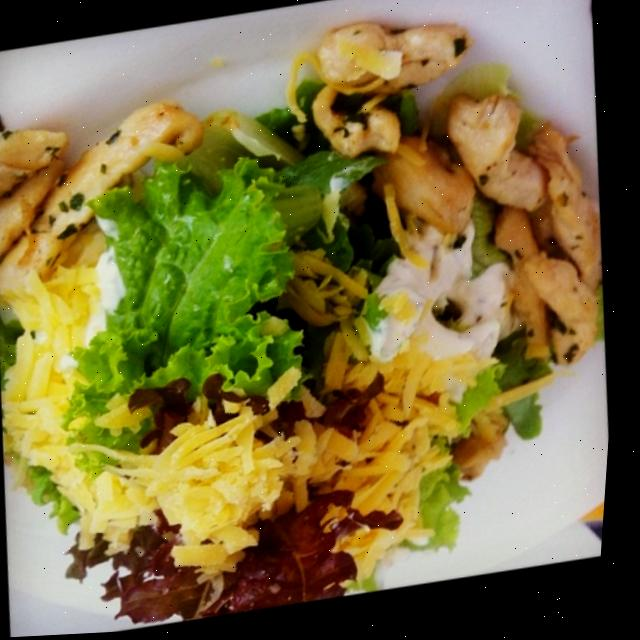蔬菜料理: (0, 0, 640, 637)
